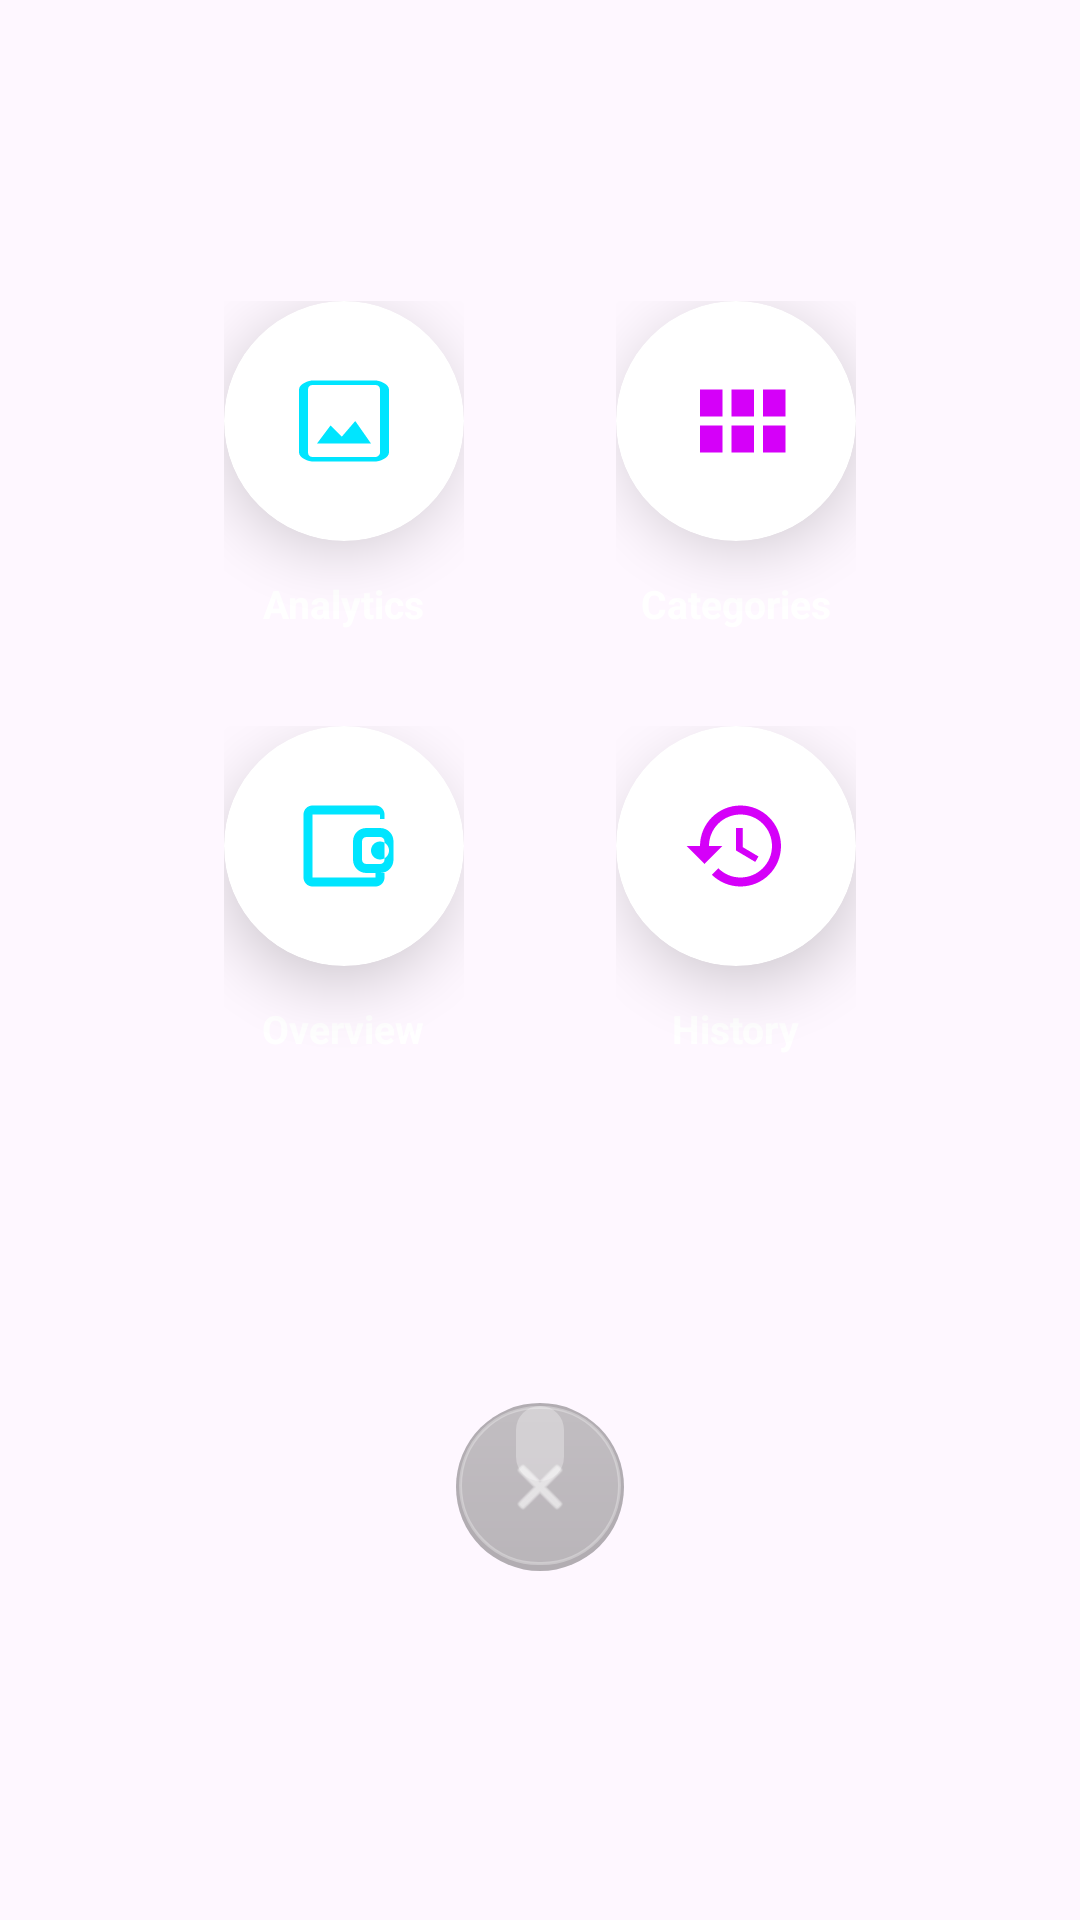

Where to tap for icons on this 1080x1920 app screen, as (x=x, y=y):
budget: (x=348, y=846)
close clear cancel: (x=540, y=1487)
